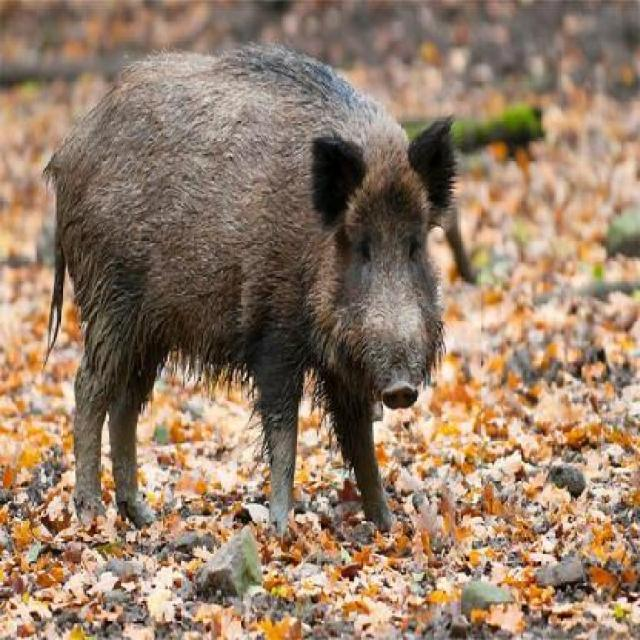wildboar: (38, 42, 464, 550)
